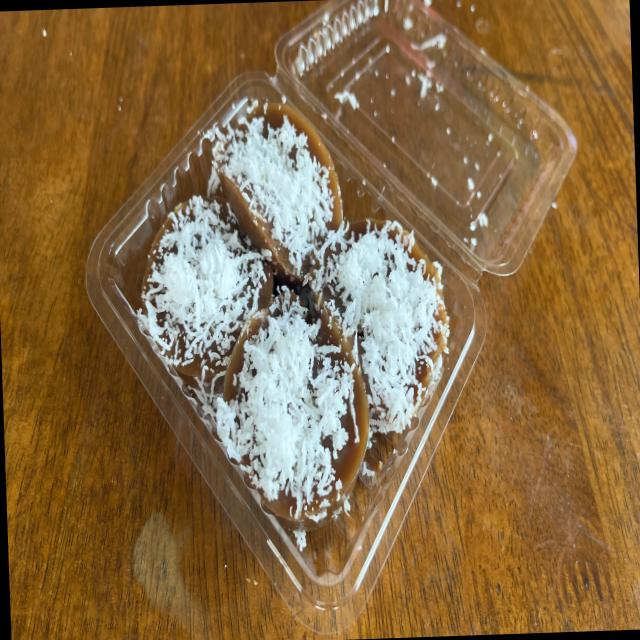Kuih lompang: (216, 290, 369, 532), (310, 220, 449, 434), (141, 195, 273, 385), (214, 103, 341, 283)
